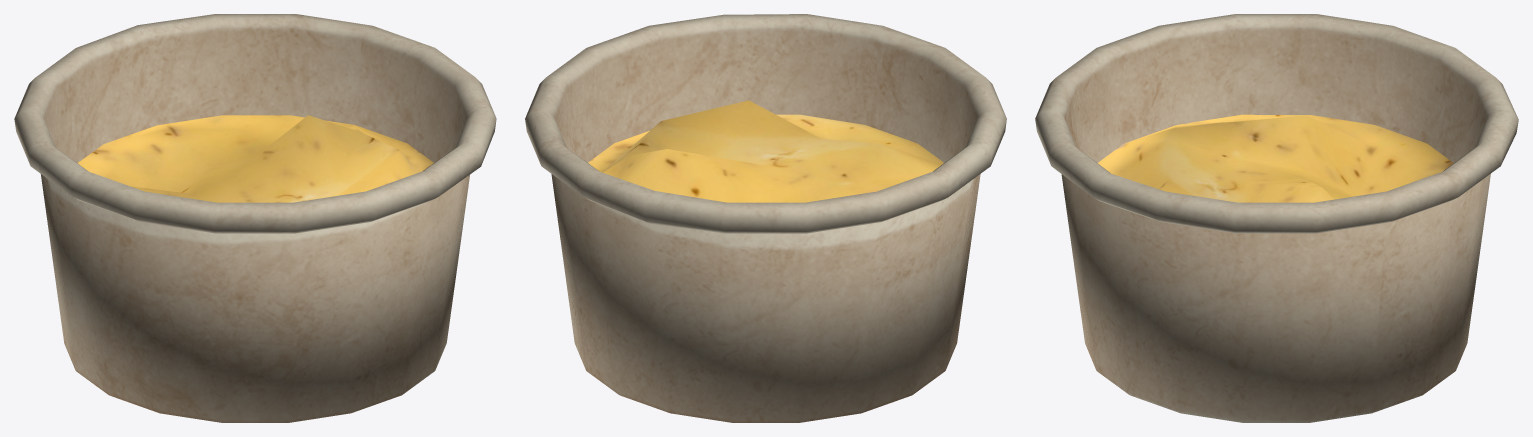
The model's file is honey_mustard.glb.
3 renders of one model, left to right at view 1: azimuth 30°, elevation 25°; view 2: azimuth 150°, elevation 25°; view 3: azimuth 270°, elevation 25°, orthographic.
Visible parts, largest first — view 1: Sauce_ranch_sauceMaterial_0; view 2: Sauce_ranch_sauceMaterial_0; view 3: Sauce_ranch_sauceMaterial_0.
Boxes of the visible parts, x1=… form: Sauce_ranch_sauceMaterial_0: x1=14, y1=14, x2=496, y2=422; Sauce_ranch_sauceMaterial_0: x1=525, y1=14, x2=1006, y2=422; Sauce_ranch_sauceMaterial_0: x1=1035, y1=14, x2=1518, y2=422.
Bounding box in the file's own units: 1.49 × 0.806 × 1.51.
1 material, 1 textured.
